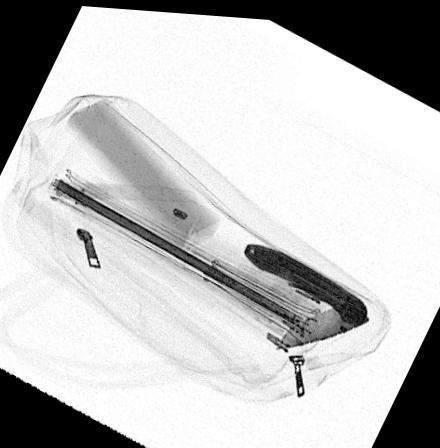Knife: (240, 238, 372, 345)
